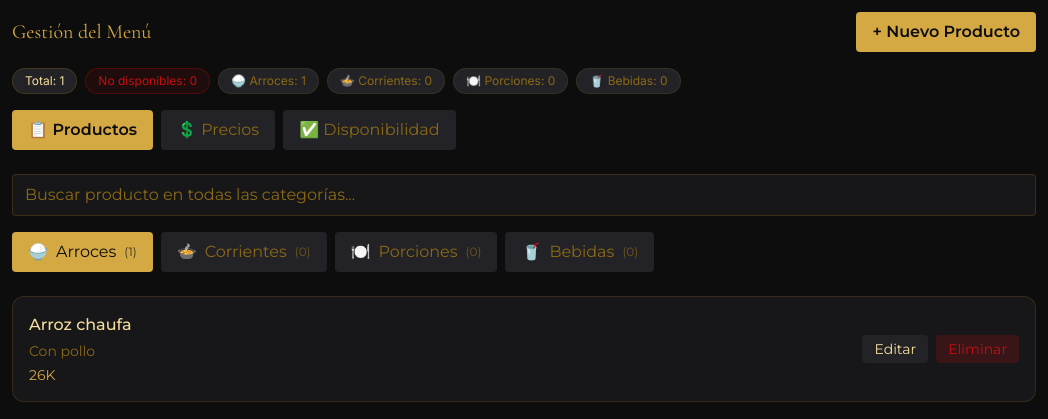
el buscador muestra estado vacío si no hay coincidencias
In the search field named "Buscar productos": point(524, 195) [12, 174, 1036, 216], type "xyz"
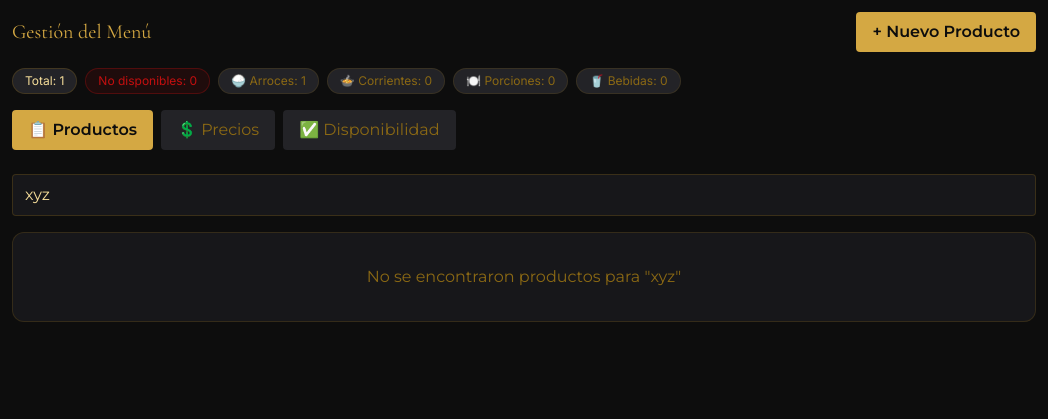
Expected: the text "No se encontraron productos para \"xyz\"" is shown, [367, 267, 681, 286]
